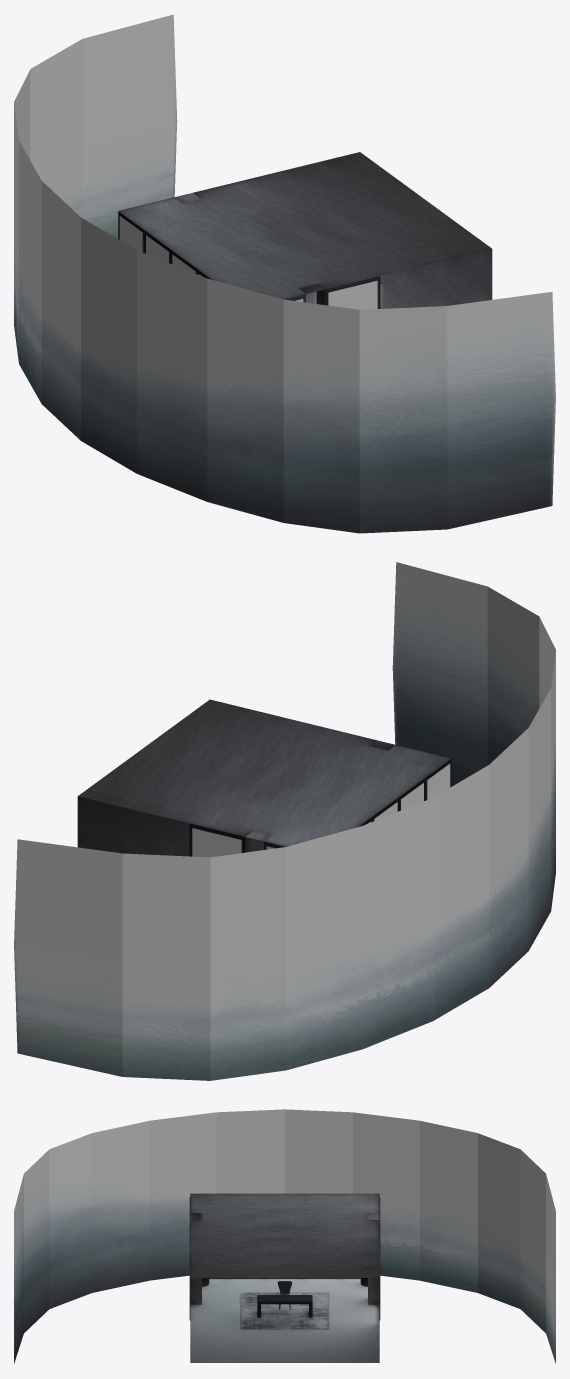
Rendered from minimalistic_modern_office.obj.
The picture shows the model from 3 angles, top to bottom: view 1: azimuth 30°, elevation 25°; view 2: azimuth 150°, elevation 25°; view 3: azimuth 270°, elevation 25°; orthographic projection. The views are drawn at different scales.
Visible parts, largest first — view 1: Minimalistic Modern Office_Background_0, Minimalistic Modern Office_Structure_0, Minimalistic Modern Office_Glass_0; view 2: Minimalistic Modern Office_Background_0, Minimalistic Modern Office_Structure_0, Minimalistic Modern Office_Glass_0; view 3: Minimalistic Modern Office_Background_0, Minimalistic Modern Office_Structure_0, Carpet_Carpet_0, Minimalistic Modern Office_Table_0.
Boxes of the visible parts, x1,y1,x2,y2 form: Minimalistic Modern Office_Background_0: (14, 14, 555, 533); Minimalistic Modern Office_Structure_0: (118, 152, 492, 308); Minimalistic Modern Office_Glass_0: (119, 216, 377, 309); Minimalistic Modern Office_Background_0: (14, 562, 555, 1080); Minimalistic Modern Office_Structure_0: (77, 699, 451, 856); Minimalistic Modern Office_Glass_0: (192, 763, 450, 857); Minimalistic Modern Office_Background_0: (14, 1109, 555, 1363); Minimalistic Modern Office_Structure_0: (189, 1193, 380, 1362); Carpet_Carpet_0: (241, 1292, 328, 1329); Minimalistic Modern Office_Table_0: (257, 1295, 312, 1317).
Bounding box in the file's own units: 13.11 × 8.11 × 24.91.
